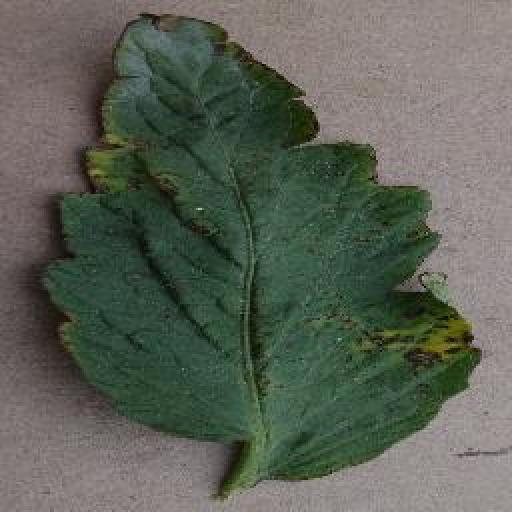Bacterial Spot: (35, 8, 489, 492)
